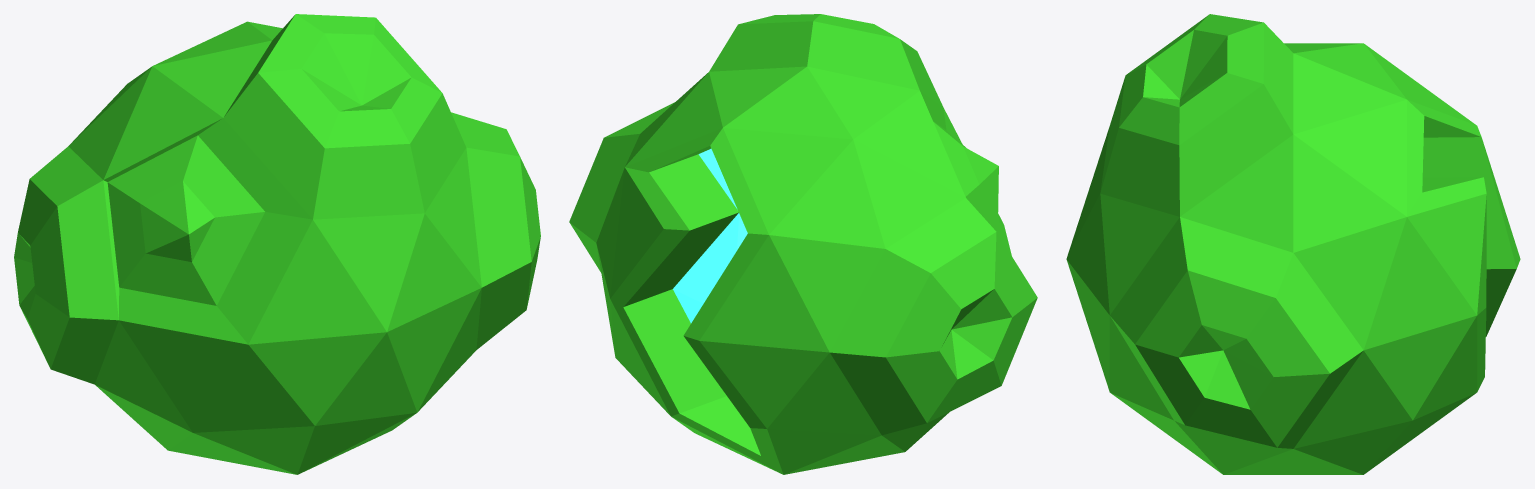
The model's file is planets3.glb.
The picture shows the model from 3 angles, left to right: view 1: azimuth 30°, elevation 25°; view 2: azimuth 150°, elevation 25°; view 3: azimuth 270°, elevation 25°; orthographic projection. The views are drawn at different scales.
Parts seen in each view (by area): view 1: Icosphere.001; view 2: Icosphere.001; view 3: Icosphere.001.
Part boxes in pixels (x1=…): Icosphere.001: x1=14, y1=14, x2=540, y2=474; Icosphere.001: x1=569, y1=14, x2=1037, y2=474; Icosphere.001: x1=1066, y1=14, x2=1520, y2=474.
Bounding box in the file's own units: 1.57 × 1.46 × 1.34.
